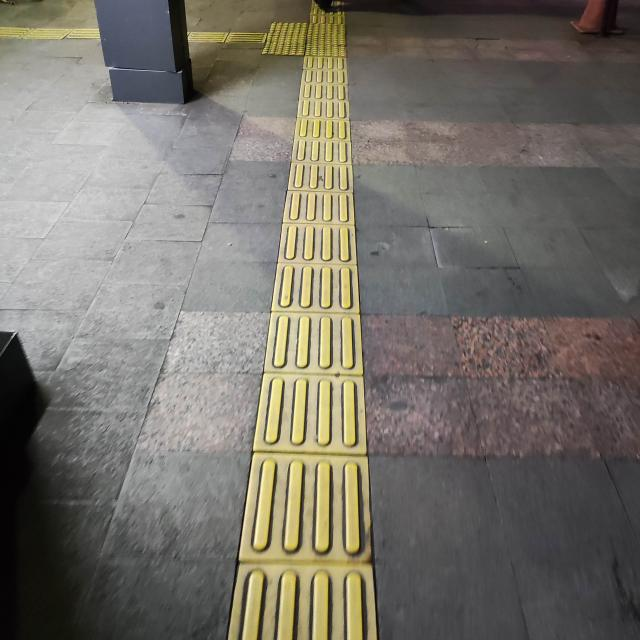lurus: (245, 54, 381, 640)
